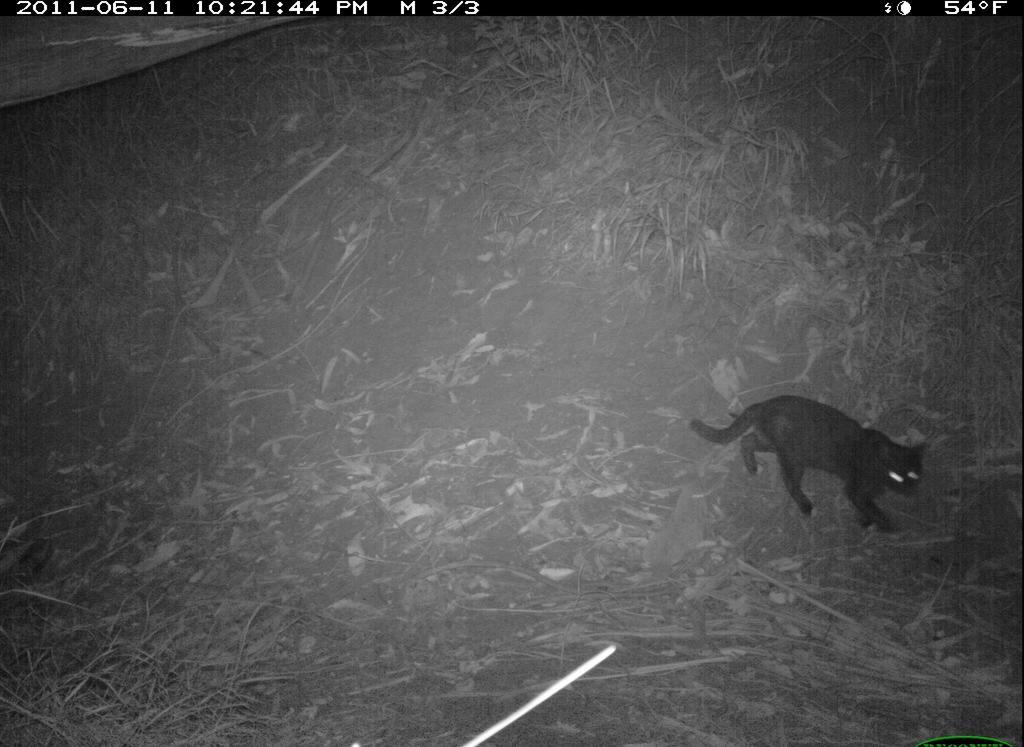cat: (675, 390, 946, 545)
